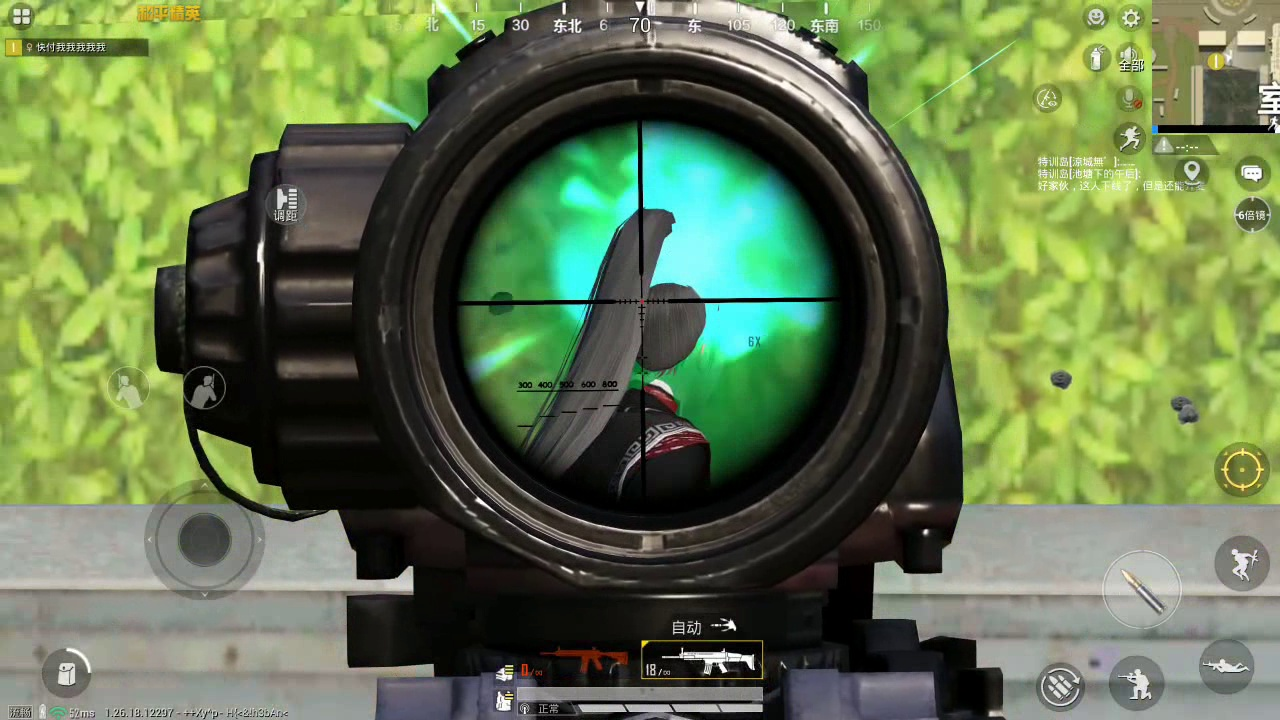enemy: (529, 205, 734, 497)
